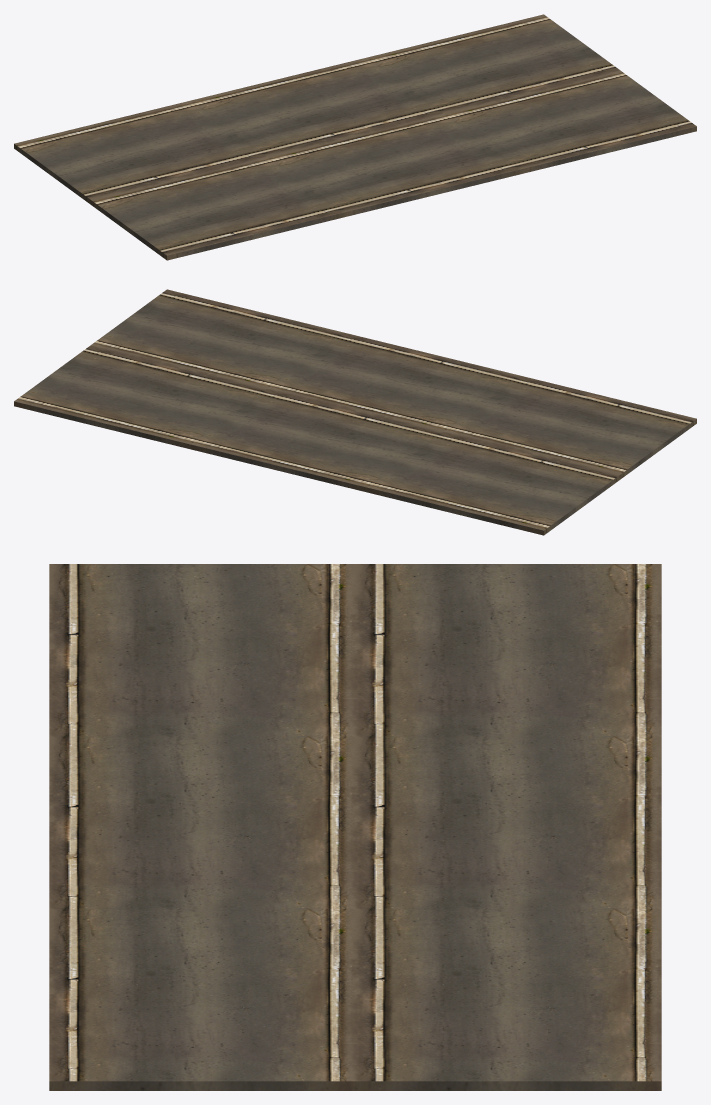
File: oldroad.glb
The picture shows the model from 3 angles, top to bottom: view 1: azimuth 30°, elevation 25°; view 2: azimuth 150°, elevation 25°; view 3: azimuth 270°, elevation 25°; orthographic projection. The views are drawn at different scales.
Parts seen in each view (by area): view 1: Plane.002__0; view 2: Plane.002__0; view 3: Plane.002__0.
Part boxes in pixels (<box>): Plane.002__0: <box>14,14,696,260</box>; Plane.002__0: <box>14,289,696,535</box>; Plane.002__0: <box>49,564,661,1090</box>.
Bounding box in the file's own units: 12.57 × 0.1102 × 6.29.
Materials: 1 (1 with a texture image).
